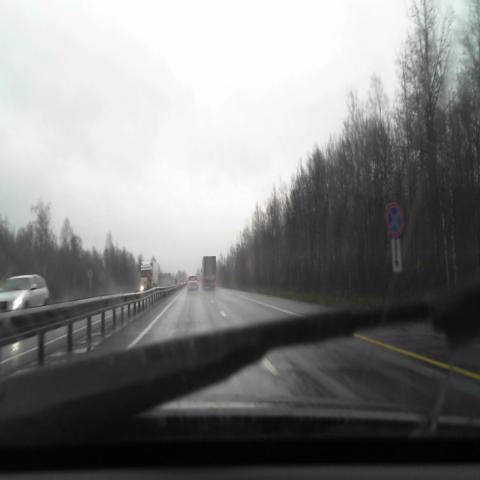8_2_3: (391, 238, 402, 271)
